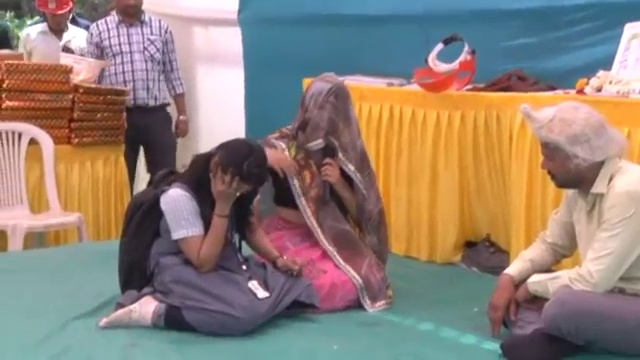helmet: (51, 52, 110, 83)
helmet_off: (529, 108, 612, 203), (295, 79, 358, 154), (197, 139, 266, 204), (37, 2, 75, 35), (116, 0, 143, 19)
person: (487, 94, 640, 358), (113, 133, 316, 321), (248, 70, 388, 302), (85, 0, 185, 192), (9, 92, 79, 241), (12, 0, 104, 59)
